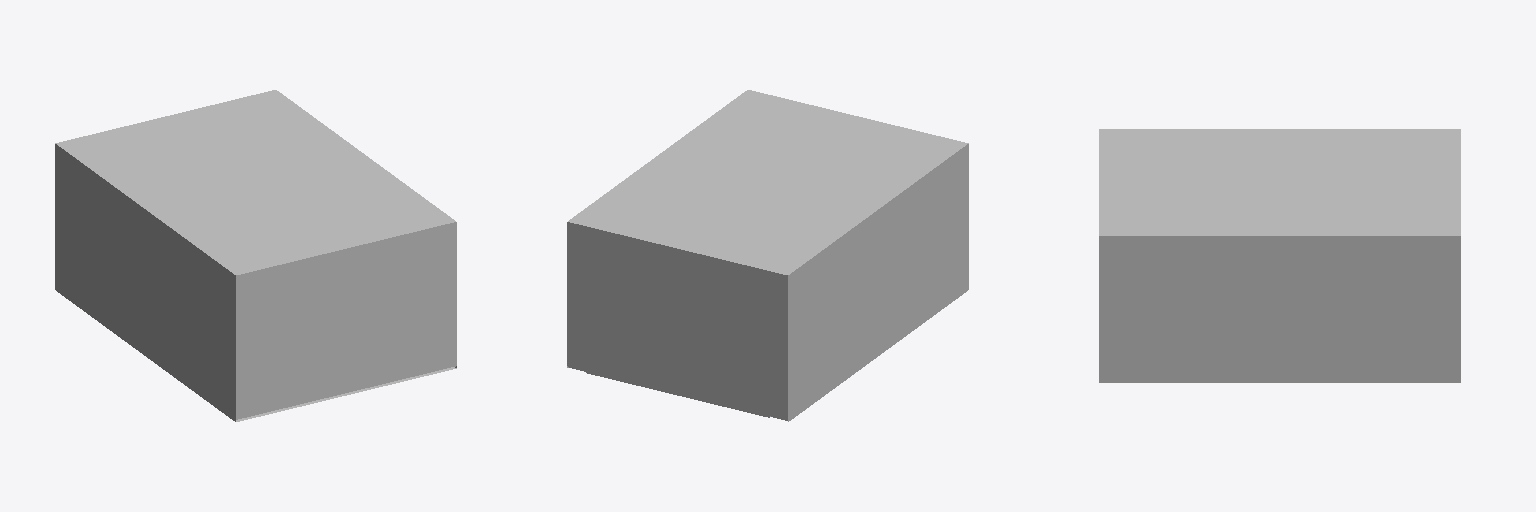
File: FencingArena.obj
The picture shows the model from 3 angles: view 1: azimuth 30°, elevation 25°; view 2: azimuth 150°, elevation 25°; view 3: azimuth 270°, elevation 25°; orthographic projection.
Parts seen in each view (by area): view 1: pPlane5, pPlane8, pPlane7, pPlane3; view 2: pPlane5, pPlane7, pPlane4, Bleacher_Chunk_Small1:pPlane1, pPlane1, Bleacher_Stairs_Small:pPlane1; view 3: pPlane6, pPlane5, pPlane2.
Part boxes in pixels (left/top/right/bottom): pPlane5: left=55, top=90, right=455, bottom=274; pPlane8: left=236, top=222, right=456, bottom=419; pPlane7: left=55, top=144, right=235, bottom=421; pPlane3: left=236, top=367, right=456, bottom=421; pPlane5: left=568, top=90, right=968, bottom=274; pPlane7: left=788, top=144, right=968, bottom=421; pPlane4: left=567, top=222, right=787, bottom=419; Bleacher_Chunk_Small1:pPlane1: left=678, top=299, right=770, bottom=417; pPlane1: left=586, top=277, right=677, bottom=395; Bleacher_Stairs_Small:pPlane1: left=771, top=329, right=842, bottom=420; pPlane6: left=1099, top=236, right=1460, bottom=382; pPlane5: left=1099, top=129, right=1460, bottom=235; pPlane2: left=1352, top=294, right=1457, bottom=382.
Size of the model in its own units: 24 by 15.25 by 34.